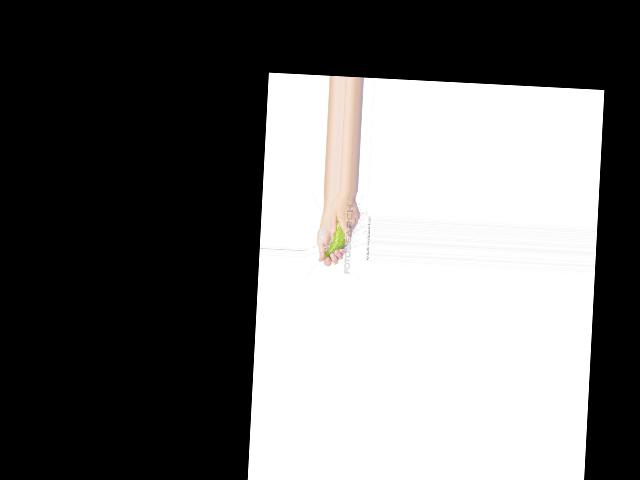cucumber: (324, 219, 347, 259)
